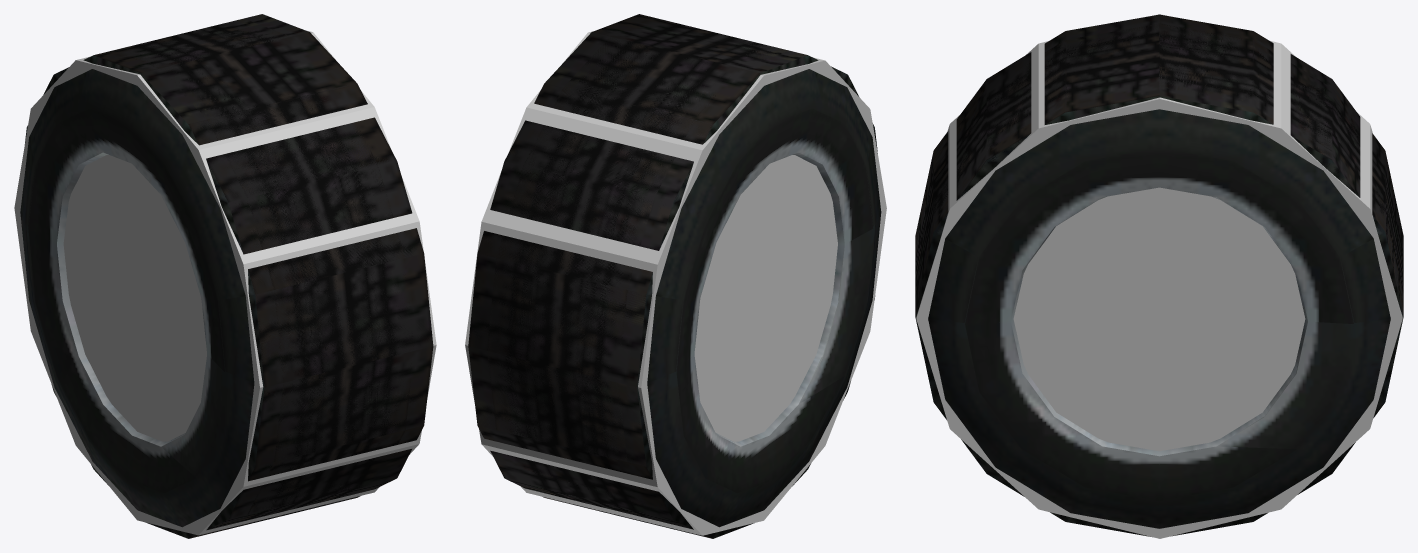
Rendered from tire_2_out.glb.
3 renders of one model, left to right at view 1: azimuth 30°, elevation 25°; view 2: azimuth 150°, elevation 25°; view 3: azimuth 270°, elevation 25°, orthographic.
Parts seen in each view (by area): view 1: Surface4, Surface8, tire_rl_shadow, Surface6, Surface10, tire_rr_shadow, tire_fl_shadow, Surface9; view 2: Surface4, Surface8, tire_rl_shadow, Surface6, Surface10, tire_rr_shadow, tire_fl_shadow, Surface9; view 3: tire_rl_shadow, Surface8, Surface4, Surface10, Surface6, tire_rr_shadow, Surface5, tire_fl_shadow.
Boxes of the visible parts, <box> form: Surface4: <box>20,32,433,538</box>; Surface8: <box>20,14,433,538</box>; tire_rl_shadow: <box>14,32,436,535</box>; Surface6: <box>113,33,413,498</box>; Surface10: <box>120,18,408,533</box>; tire_rr_shadow: <box>76,31,436,443</box>; tire_fl_shadow: <box>212,107,404,447</box>; Surface9: <box>57,152,185,446</box>; Surface4: <box>468,14,881,538</box>; Surface8: <box>468,14,881,538</box>; tire_rl_shadow: <box>469,31,886,535</box>; Surface6: <box>487,39,788,472</box>; Surface10: <box>487,22,788,524</box>; tire_rr_shadow: <box>465,32,824,535</box>; tire_fl_shadow: <box>496,106,689,531</box>; Surface9: <box>716,152,844,446</box>; tire_rl_shadow: <box>916,97,1402,538</box>; Surface8: <box>915,14,1403,536</box>; Surface4: <box>915,14,1403,536</box>; Surface10: <box>915,24,1400,290</box>; Surface6: <box>956,23,1403,307</box>; tire_rr_shadow: <box>916,14,1402,317</box>; Surface5: <box>1011,196,1307,456</box>; tire_fl_shadow: <box>1031,50,1372,204</box>.
Size of the model in its own units: 0.3138 by 0.6798 by 0.6798.
